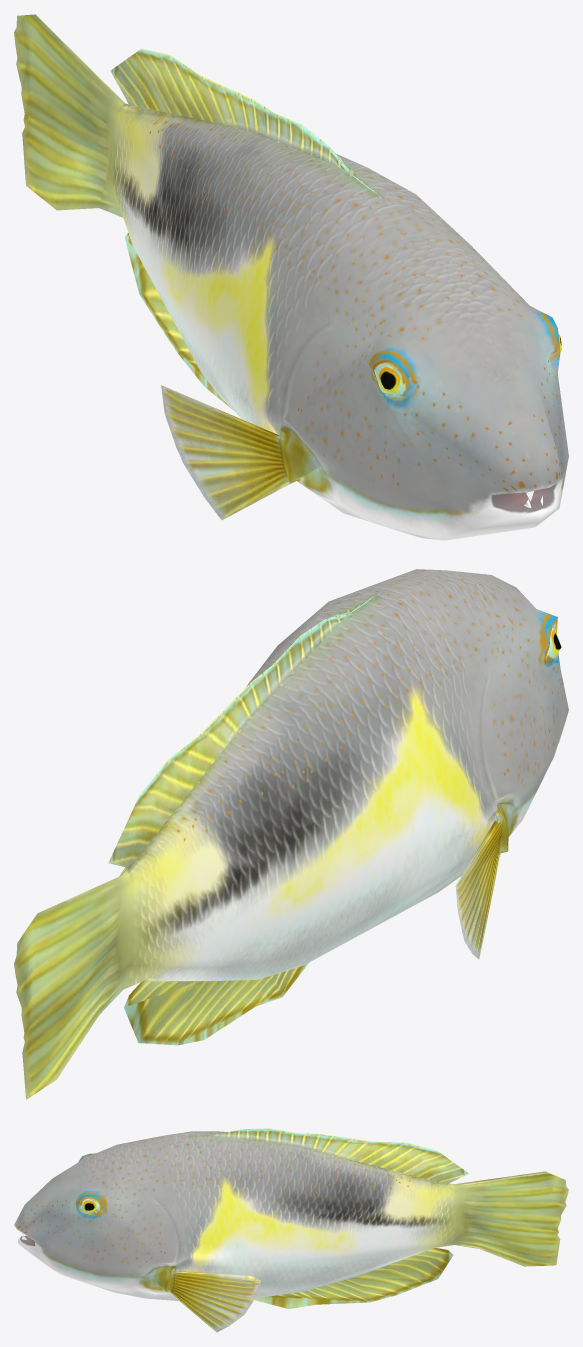
File: tuskfish_lod2.glb
3 views of the same model, one above another, from view 1: azimuth 30°, elevation 25°; view 2: azimuth 150°, elevation 25°; view 3: azimuth 270°, elevation 25° (orthographic). The views are drawn at different scales.
Parts seen in each view (by area): view 1: orange_tuskfish_LOD2.1; view 2: orange_tuskfish_LOD2.1; view 3: orange_tuskfish_LOD2.1.
Boxes of the visible parts, x1,y1,x2,y2 form: orange_tuskfish_LOD2.1: [14, 14, 568, 540]; orange_tuskfish_LOD2.1: [14, 569, 568, 1099]; orange_tuskfish_LOD2.1: [14, 1128, 568, 1332].
Size of the model in its own units: 0.1187 by 0.1335 by 0.3704.
Materials: 1 (1 with a texture image).
